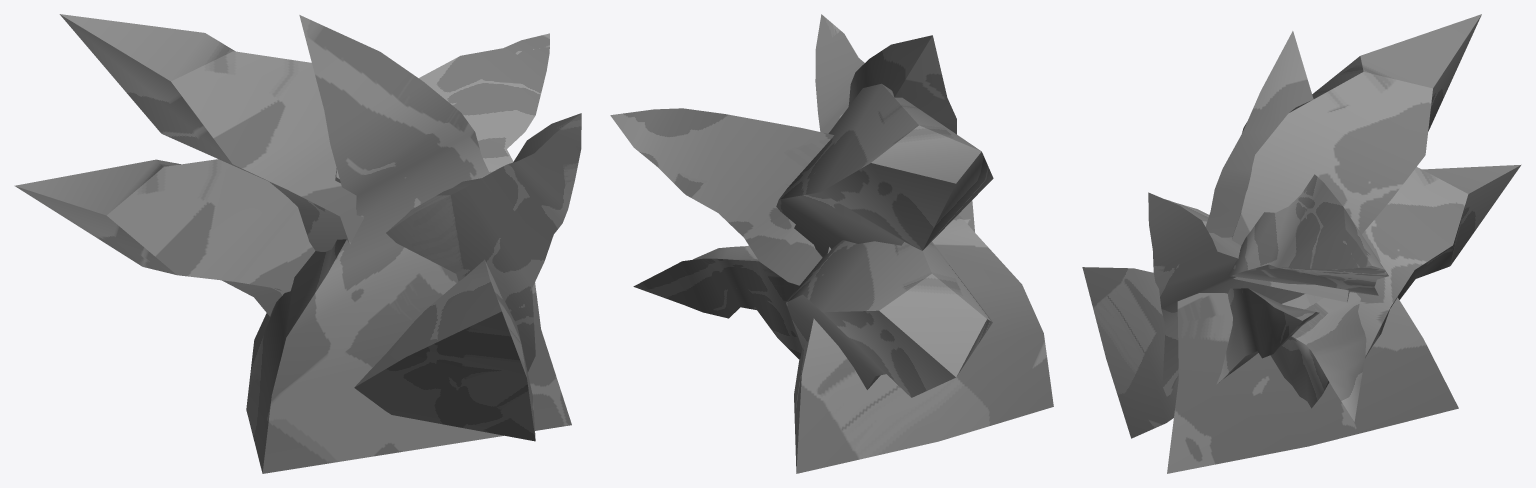
Rendered from CTS_E_PalmDarkRockC.fbx.
3 views of the same model, side by side, from view 1: azimuth 30°, elevation 25°; view 2: azimuth 150°, elevation 25°; view 3: azimuth 270°, elevation 25° (orthographic). The views are drawn at different scales.
Visible parts, largest first — view 1: CTS_E_PalmDarkRockC; view 2: CTS_E_PalmDarkRockC; view 3: CTS_E_PalmDarkRockC.
Part boxes in pixels (left/top/right/bottom): CTS_E_PalmDarkRockC: left=14, top=14, right=581, bottom=473; CTS_E_PalmDarkRockC: left=610, top=14, right=1053, bottom=473; CTS_E_PalmDarkRockC: left=1082, top=14, right=1521, bottom=473.
Size of the model in its own units: 1531 by 1321 by 1471.
